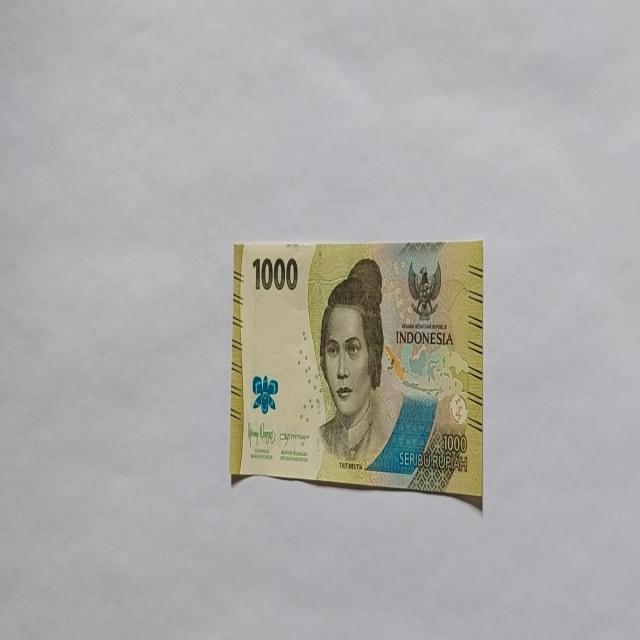seribu rupiah kertas: (228, 238, 484, 508)
